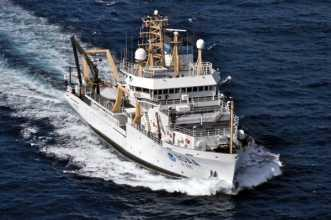otherboat: (59, 16, 248, 188)
